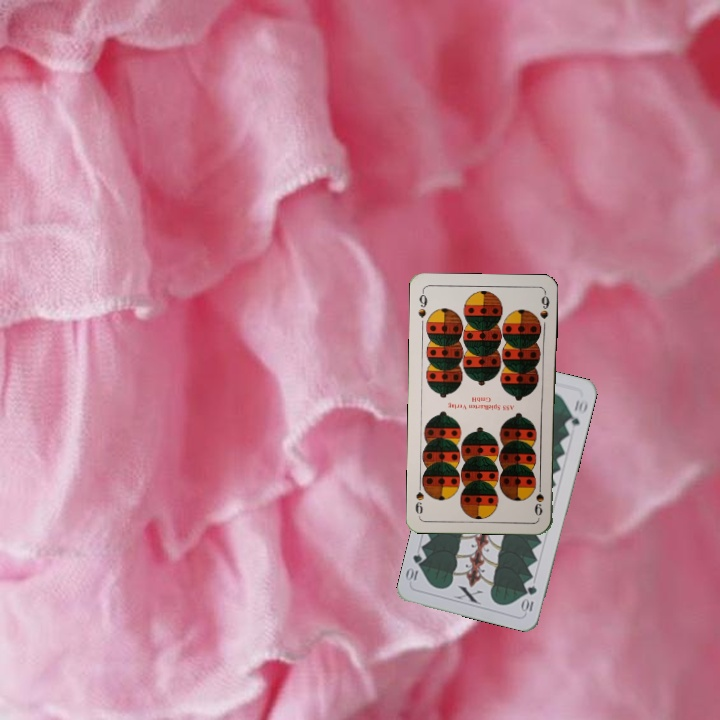G10: (519, 582, 539, 615)
S9: (531, 478, 547, 518), (414, 288, 429, 320)
